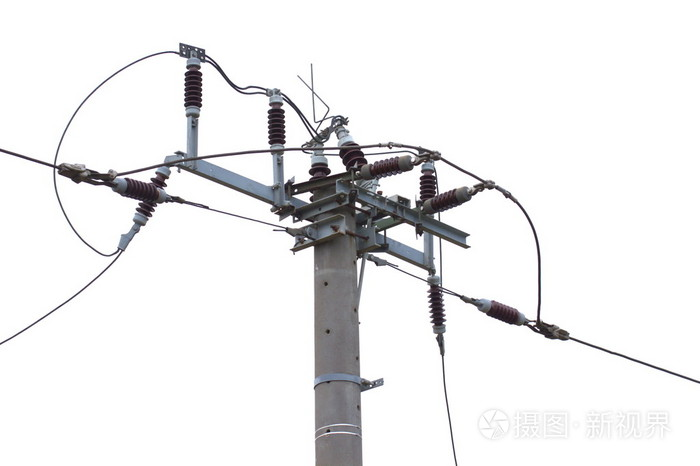insulator: (136, 177, 166, 215), (121, 176, 162, 203), (339, 142, 369, 171), (183, 70, 205, 108), (488, 300, 521, 325), (426, 286, 447, 325), (431, 188, 462, 214), (267, 109, 287, 144), (419, 172, 434, 197)
